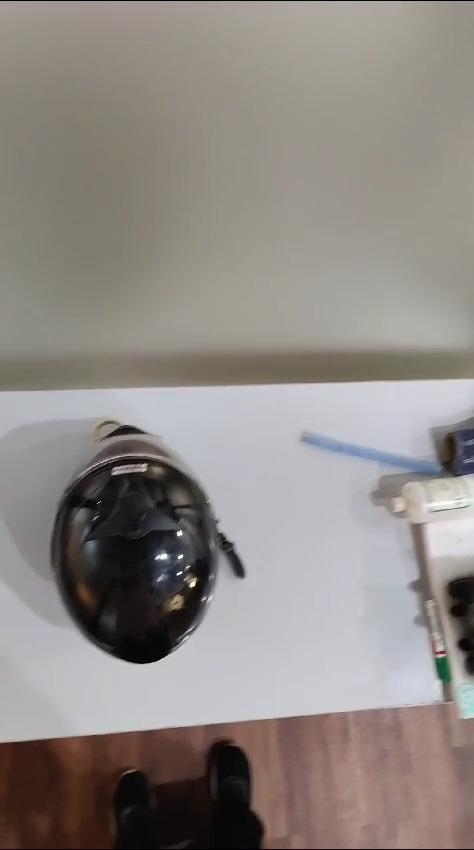Helmet: (51, 421, 244, 663)
